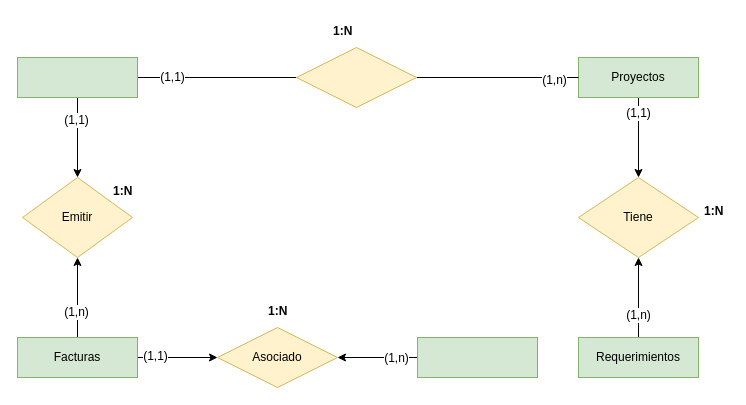
This 746x405 diagram has some shape labels left out. The box of each missing label's shape, as (x1, y1, x2, y2) in pixels:
Asociar: (296, 46, 416, 108)
Clientes: (16, 56, 138, 98)
Pagos: (416, 336, 538, 378)
